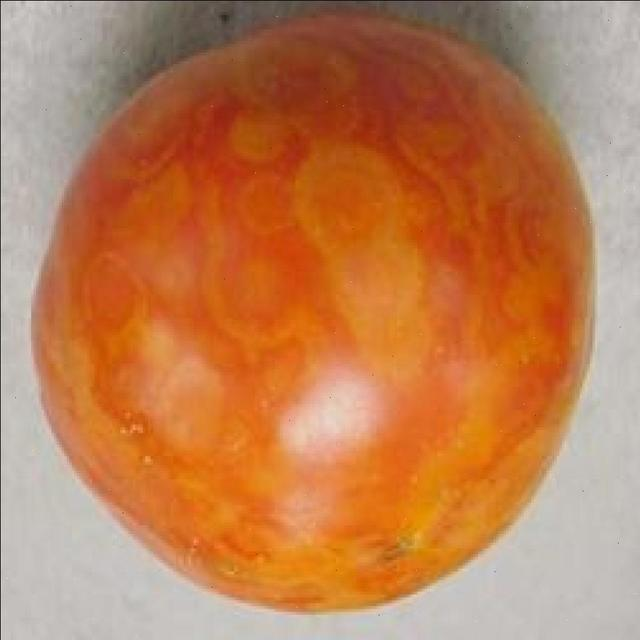Spotted wilt Virus Fruit: (72, 0, 124, 105)
